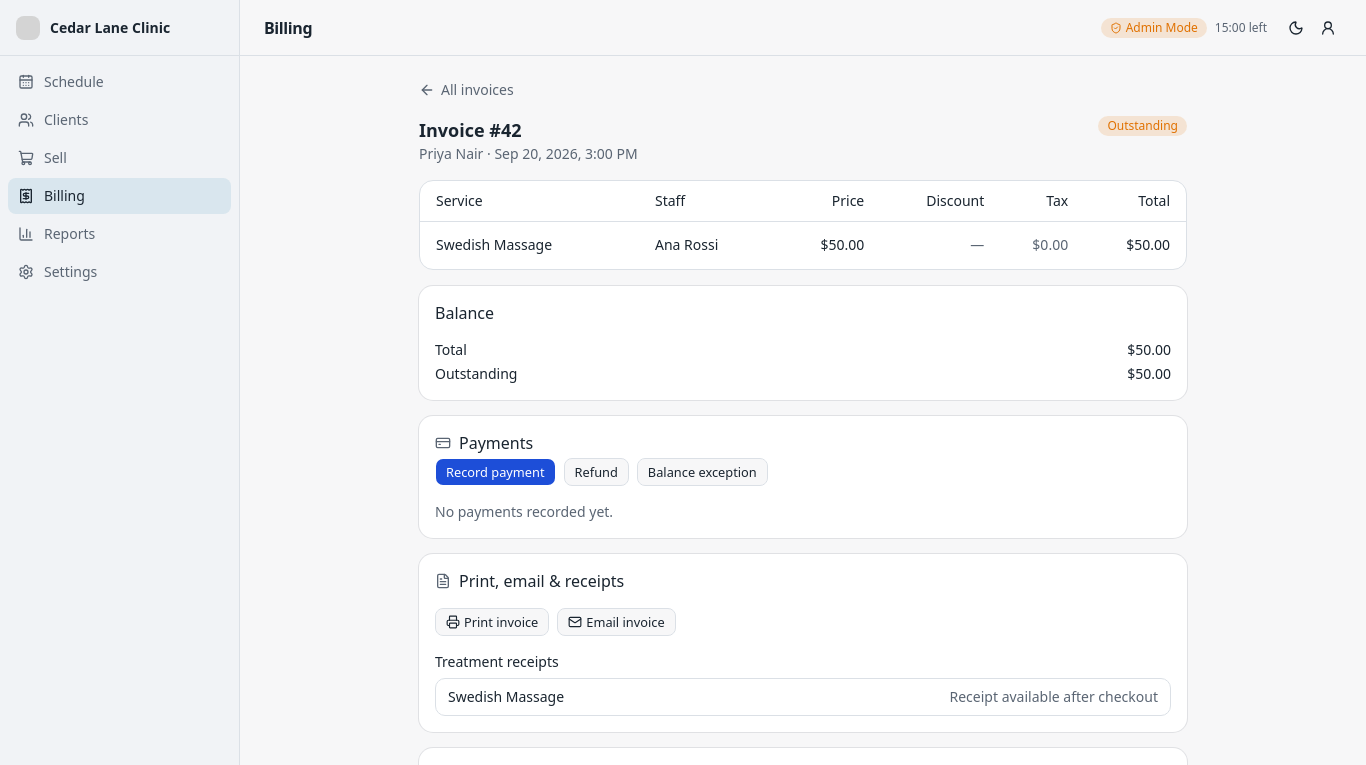
refund and balance exception render for billing.manage in Admin Mode
The image size is (1366, 765).
Expected: the heading "Invoice #42" is shown, [419,118,522,142]
Click the button "Refund".
click(596, 472)  # box [564,458,629,486]
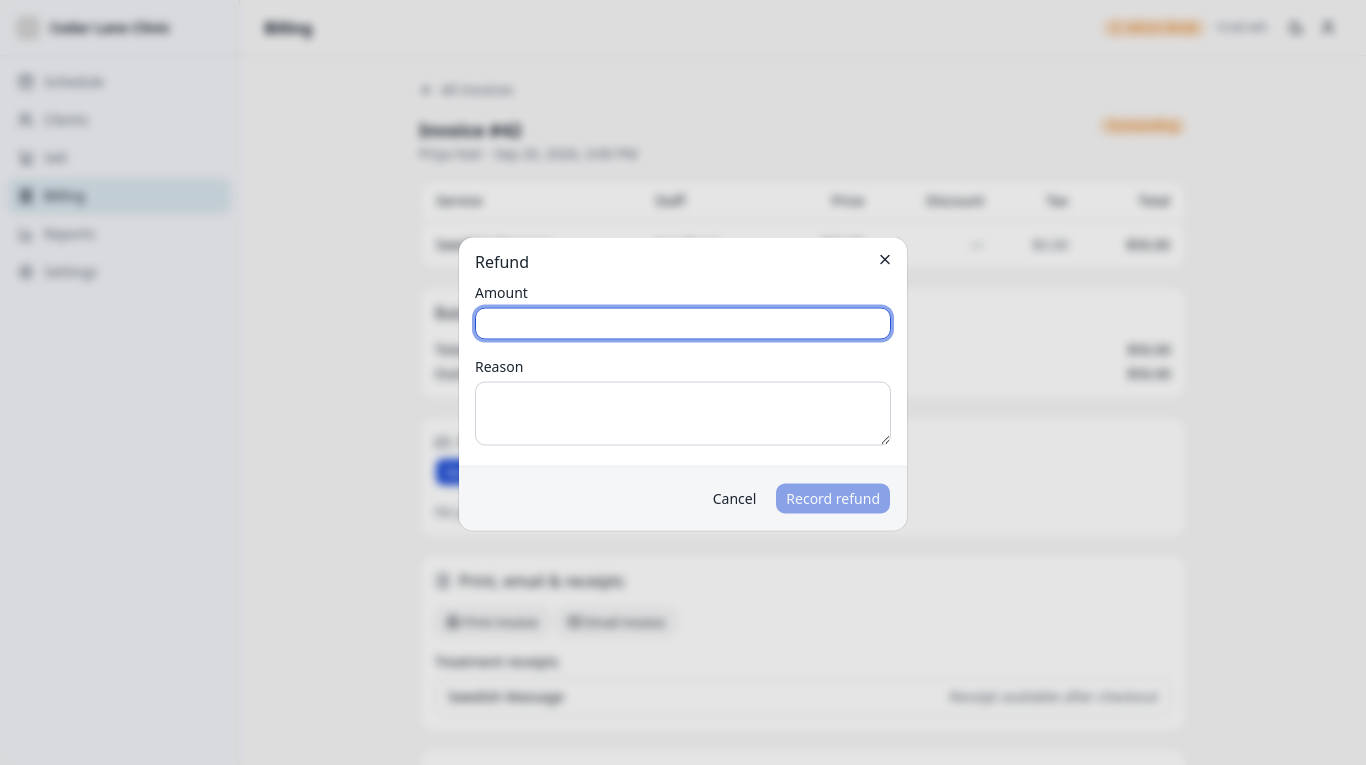
Type "10.00" into the field labelled "Amount".
click(683, 324); type("10.00")  # box [475,308,891,340]
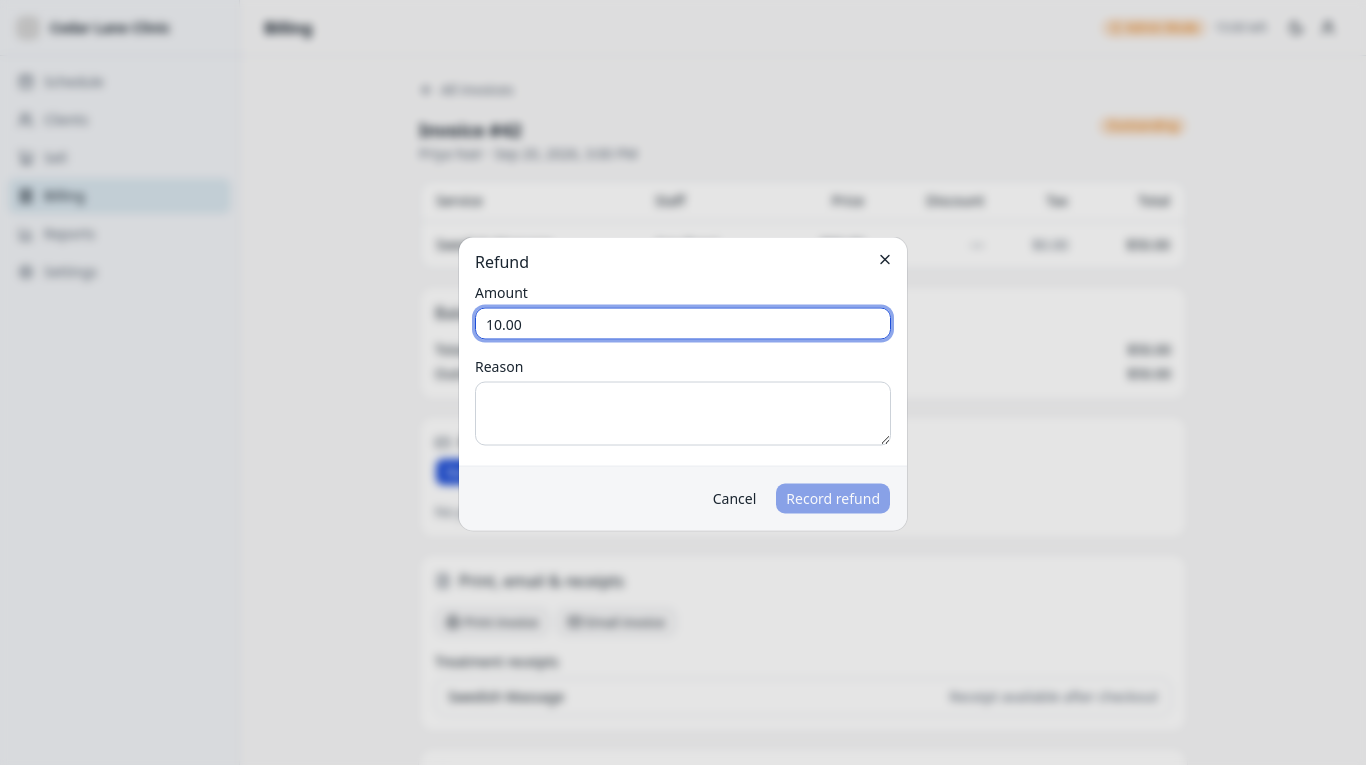
Type "Overcharged" into the text box labelled "Reason".
click(683, 414); type("Overcharged")  # box [475,382,891,446]
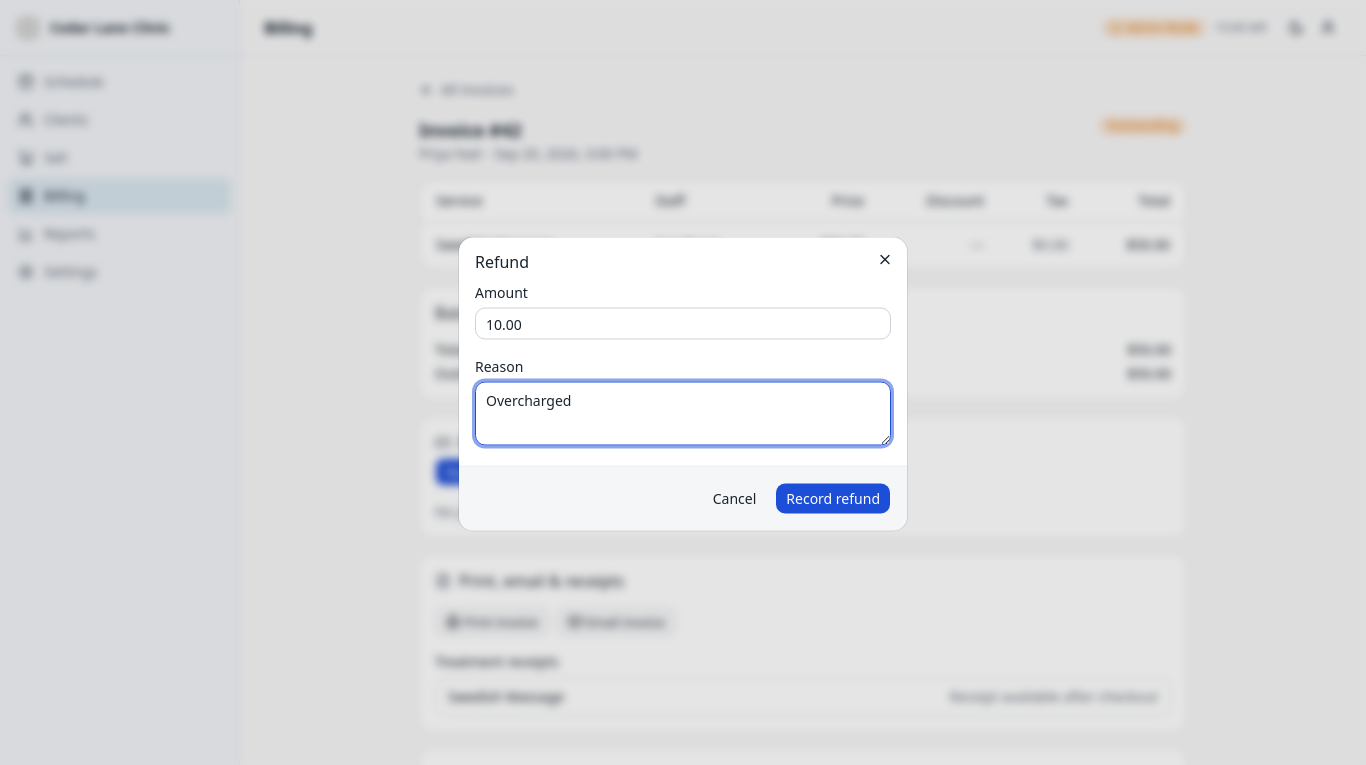
Click the button "Record refund".
click(833, 498)  # box [775,482,891,514]
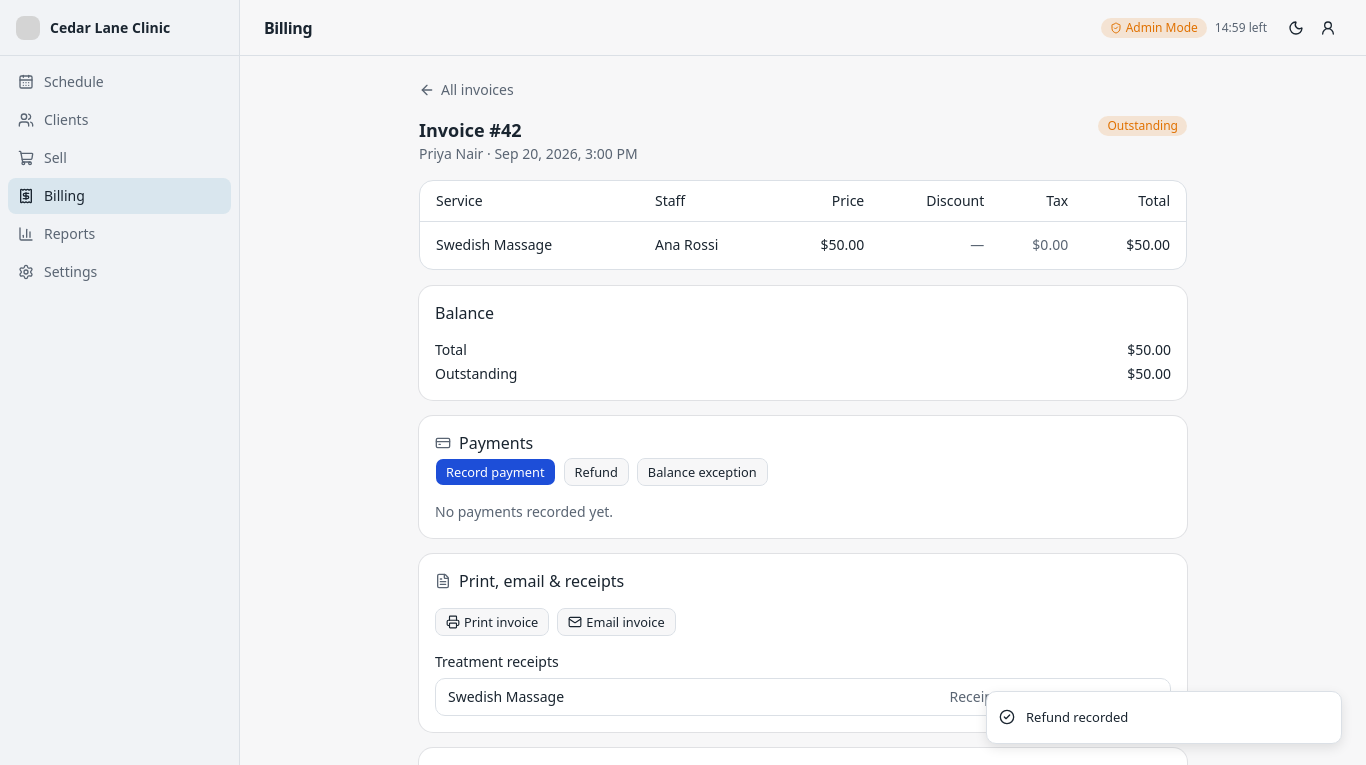
Now the dialog is gone
